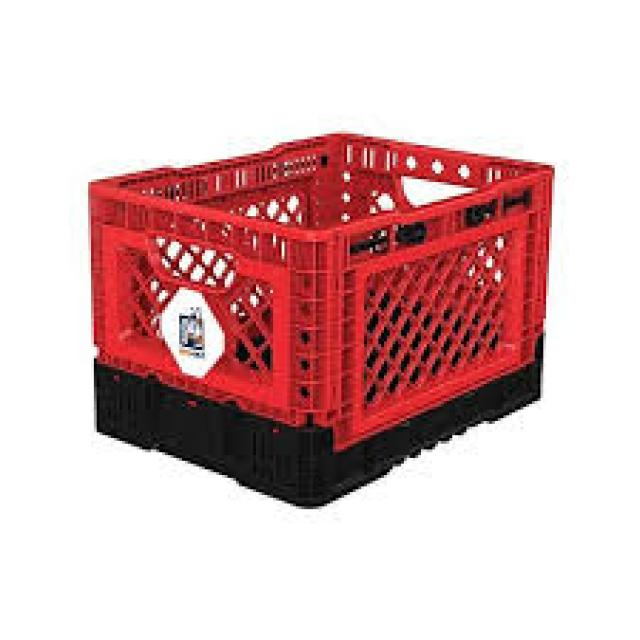basket: (68, 115, 560, 522)
